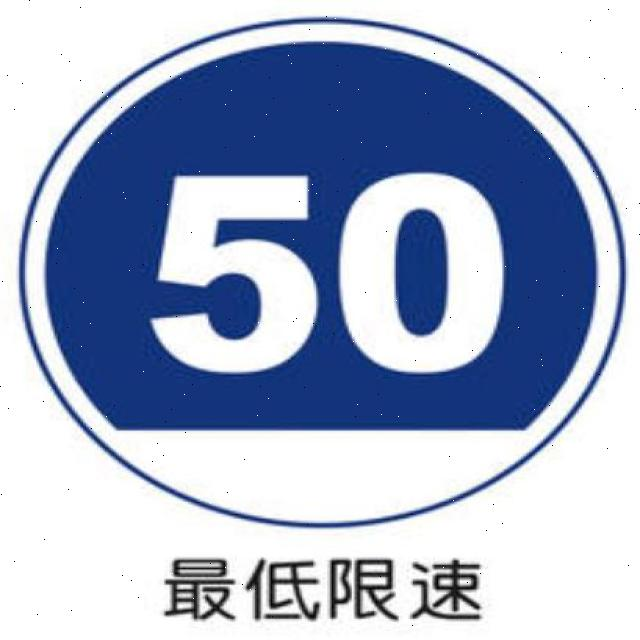speed limit 50: (14, 9, 629, 528)
